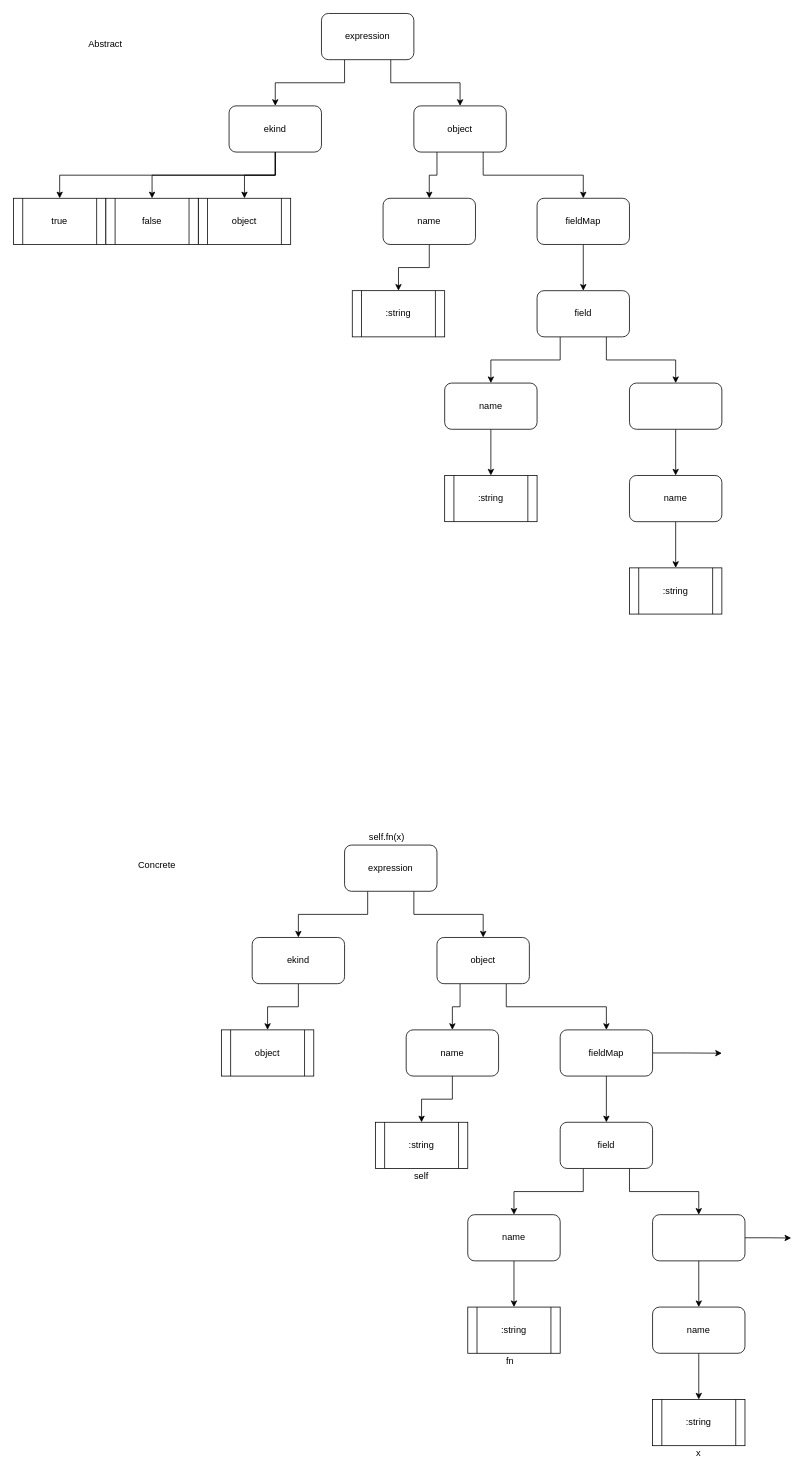
The diagram is 811 pixels wide and 1475 high, and some of its shapes have lost their labels. Here are the shapes that lost their labels. From the top down, the box of each, then its label:
(629, 382, 722, 429): paramList
(652, 1214, 745, 1261): parameterList
